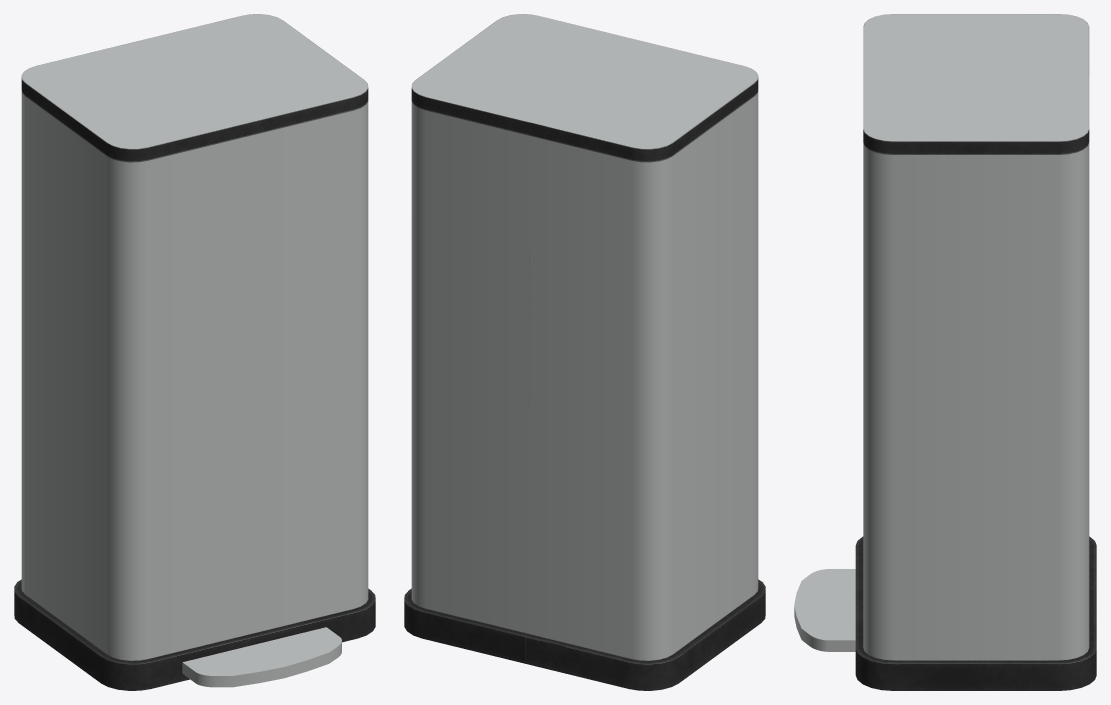
The model's file is Trash Can.fbx.
3 views of the same model, side by side, from view 1: azimuth 30°, elevation 25°; view 2: azimuth 150°, elevation 25°; view 3: azimuth 270°, elevation 25° (orthographic).
Visible parts, largest first — view 1: Garbage Can LOW; view 2: Garbage Can LOW; view 3: Garbage Can LOW.
Boxes of the visible parts, bbox=[...] form: Garbage Can LOW: bbox=[14, 14, 375, 690]; Garbage Can LOW: bbox=[404, 14, 765, 690]; Garbage Can LOW: bbox=[794, 14, 1096, 690].
Bounding box in the file's own units: 210 × 400 × 201.
